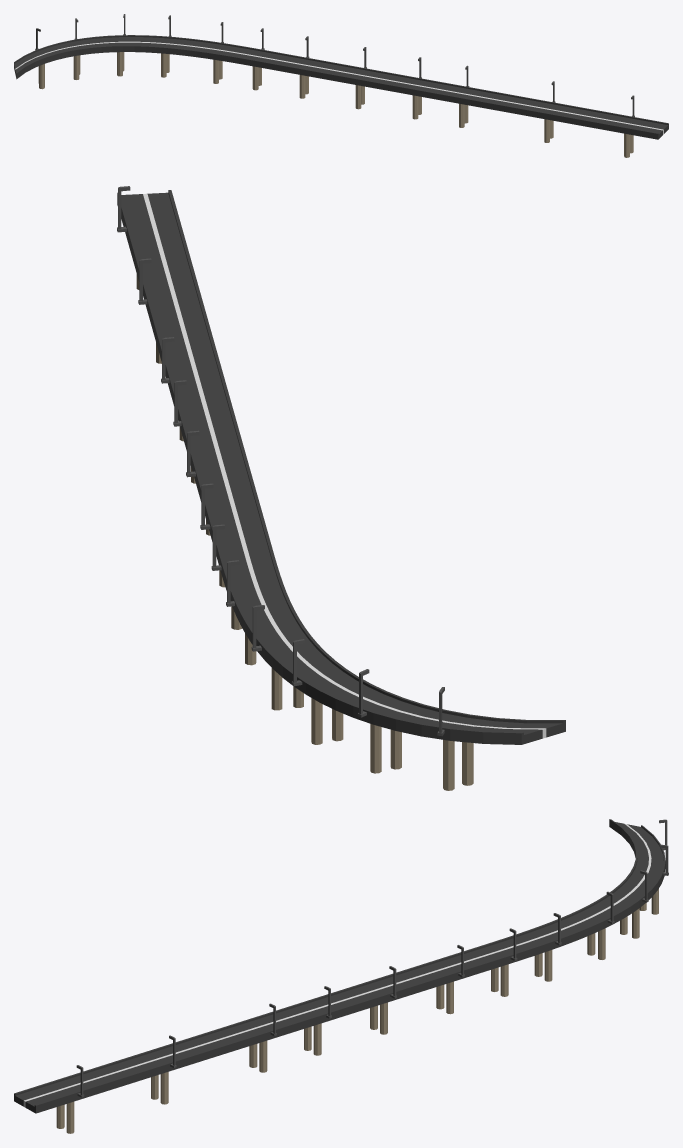
3 renders of one model, top to bottom at view 1: azimuth 30°, elevation 25°; view 2: azimuth 150°, elevation 25°; view 3: azimuth 270°, elevation 25°, orthographic. The views are drawn at different scales.
Visible parts, largest first — view 1: Cube; view 2: Cube; view 3: Cube.
Part boxes in pixels (left/top/right/bottom): Cube: left=14, top=35, right=668, bottom=139; Cube: left=117, top=190, right=565, bottom=744; Cube: left=14, top=819, right=665, bottom=1113.
Bounding box in the file's own units: 6498 × 734 × 6273.
